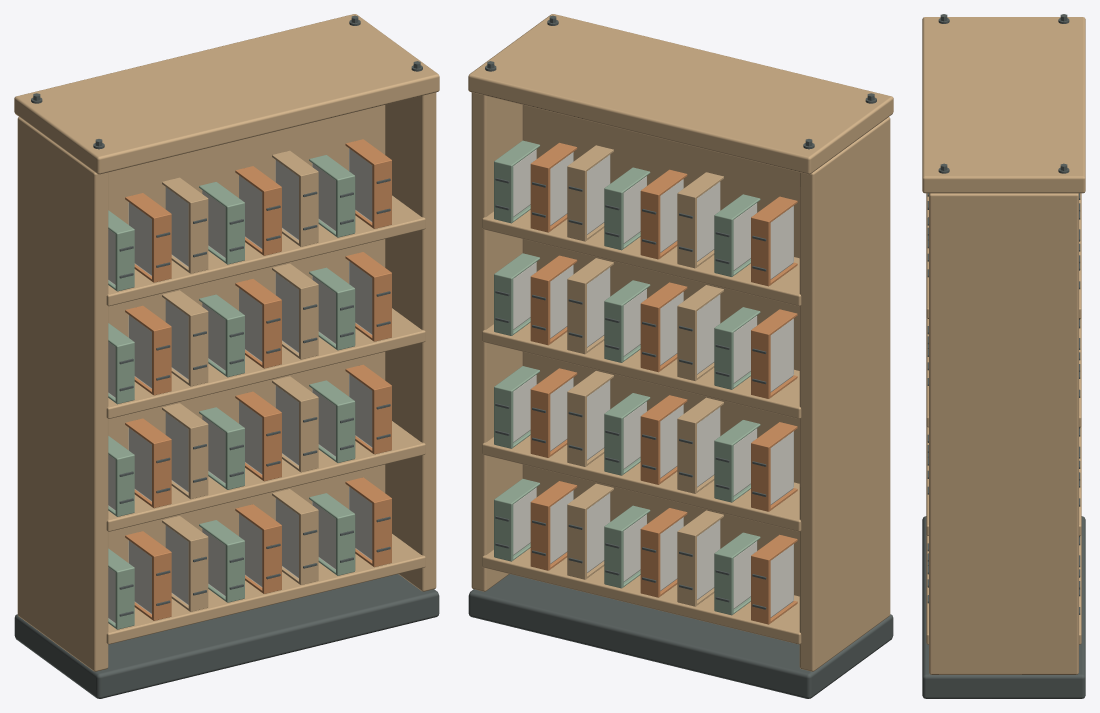
File: public-library-and-reading-garden-public-library-and-r-9af56b98__30913.glb
The picture shows the model from 3 angles, left to right: view 1: azimuth 30°, elevation 25°; view 2: azimuth 150°, elevation 25°; view 3: azimuth 270°, elevation 25°; orthographic projection. The views are drawn at different scales.
Visible parts, largest first — view 1: public-library-and-reading-garden-library-stack-straight; view 2: public-library-and-reading-garden-library-stack-straight; view 3: public-library-and-reading-garden-library-stack-straight.
Part boxes in pixels (box(x1,y1,x2,y2)): public-library-and-reading-garden-library-stack-straight: box(14, 14, 439, 698); public-library-and-reading-garden-library-stack-straight: box(468, 14, 893, 698); public-library-and-reading-garden-library-stack-straight: box(922, 14, 1085, 698).
Bounding box in the file's own units: 1.4 × 2.14 × 0.6.
